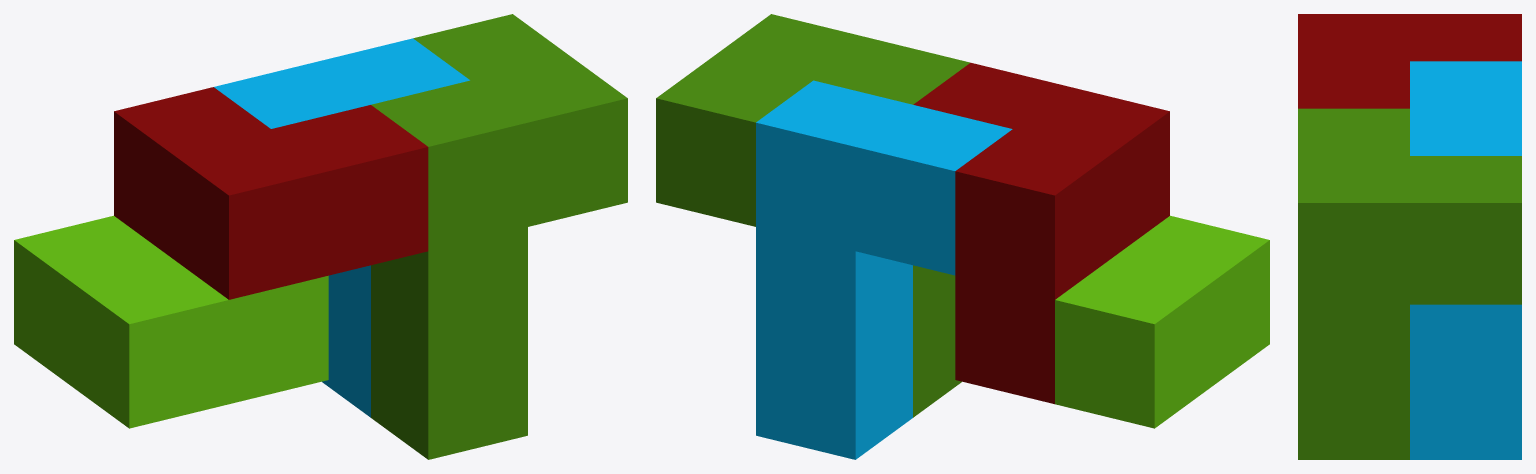
The picture shows the model from 3 angles, left to right: view 1: azimuth 30°, elevation 25°; view 2: azimuth 150°, elevation 25°; view 3: azimuth 270°, elevation 25°; orthographic projection. The views are drawn at different scales.
Visible parts, largest first — view 1: mergedBlocks(Clone); view 2: mergedBlocks(Clone); view 3: mergedBlocks(Clone).
Boxes of the visible parts, bbox=[...] form: mergedBlocks(Clone): bbox=[14, 14, 627, 459]; mergedBlocks(Clone): bbox=[656, 14, 1269, 459]; mergedBlocks(Clone): bbox=[1298, 14, 1521, 459].
Bounding box in the file's own units: 5 × 3 × 2.
4 materials, 4 textured.
